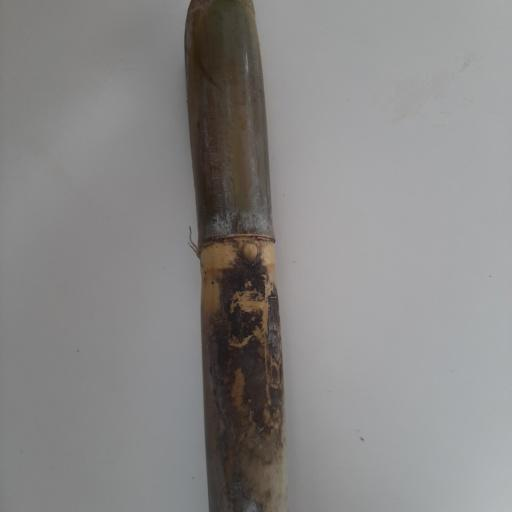Bud: (239, 238, 259, 270)
